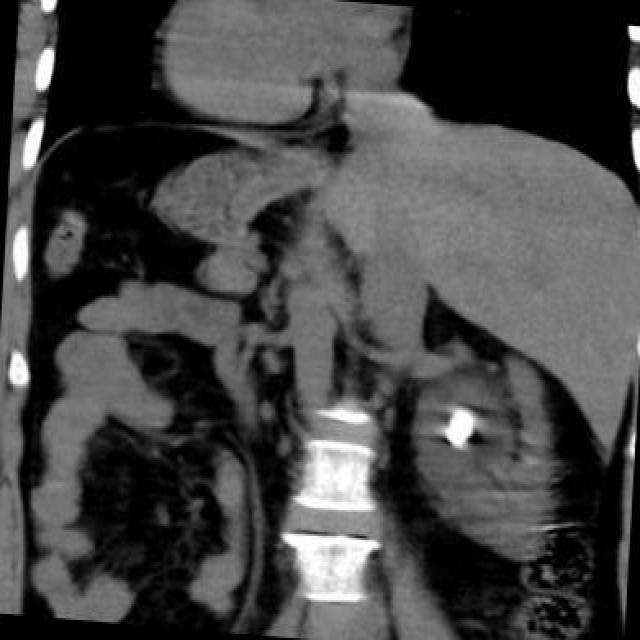Tas_Var: (438, 405, 474, 453)
